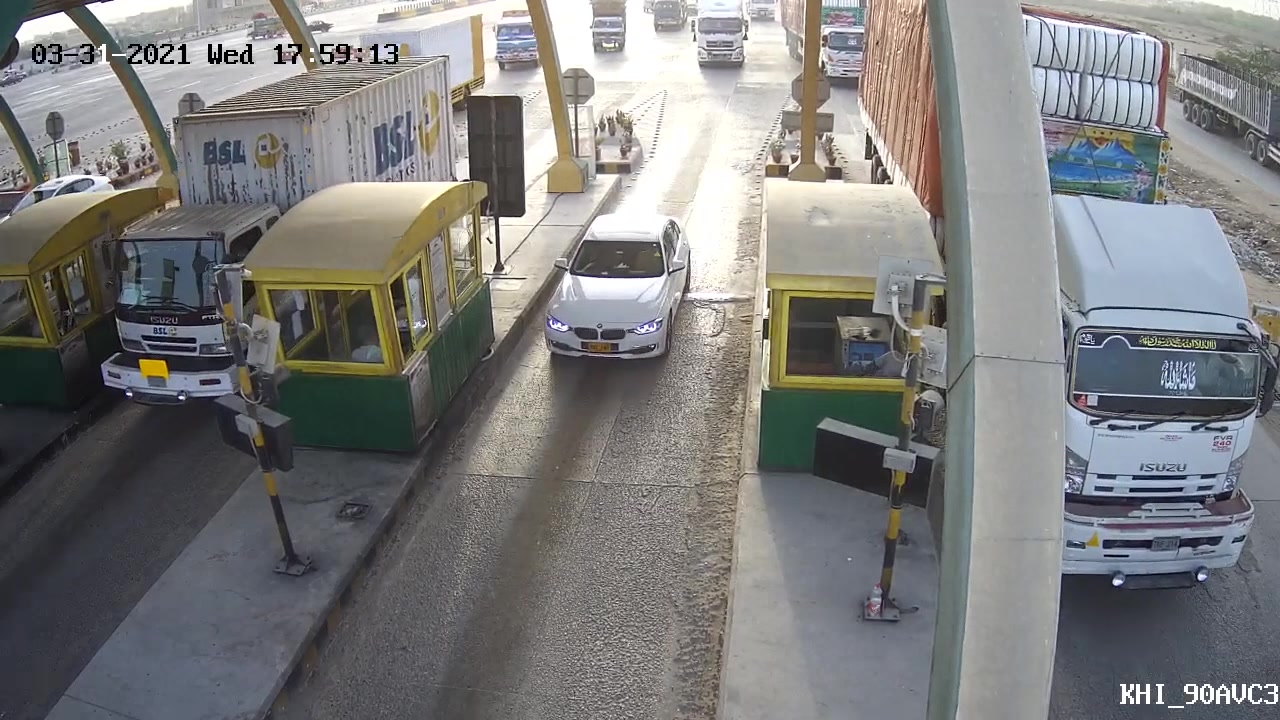F1: (535, 206, 696, 364)
